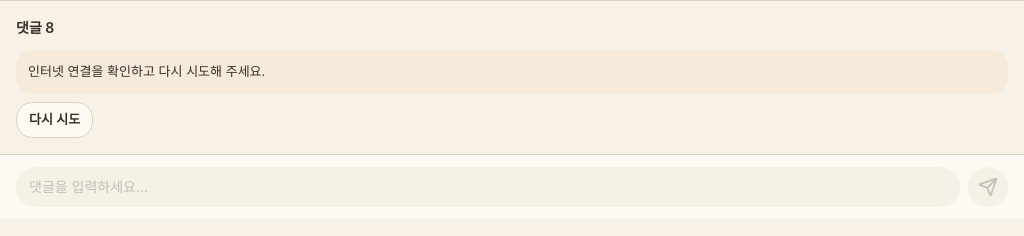
Test: persisted post comments › shows a list failure, blocks writes and retries to the empty state
The image size is (1024, 236).
Expected: the message "인터넷 연결을 확인하고 다시 시도해 주세요." is shown, [16, 50, 1008, 94]
Expected: the field named "댓글 내용" is disabled, [16, 166, 960, 206]
What coordinates should you click on to do the following:
click the button "다시 시도"
I would click on:
 (55, 120)
Its box is [16, 102, 93, 138].
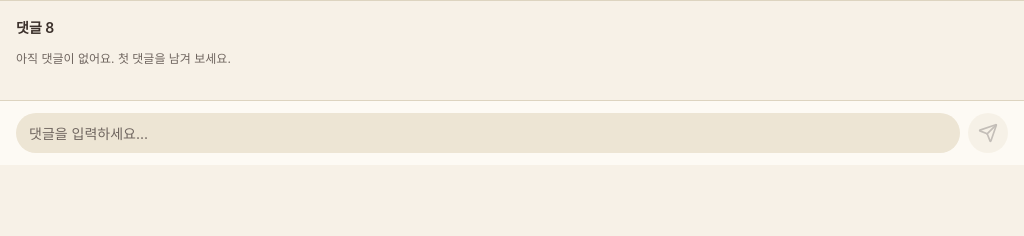
Result: the text "아직 댓글이 없어요. 첫 댓글을 남겨 보세요." is shown at [16, 51, 231, 66]
Result: the field named "댓글 내용" is enabled at [16, 113, 960, 153]
